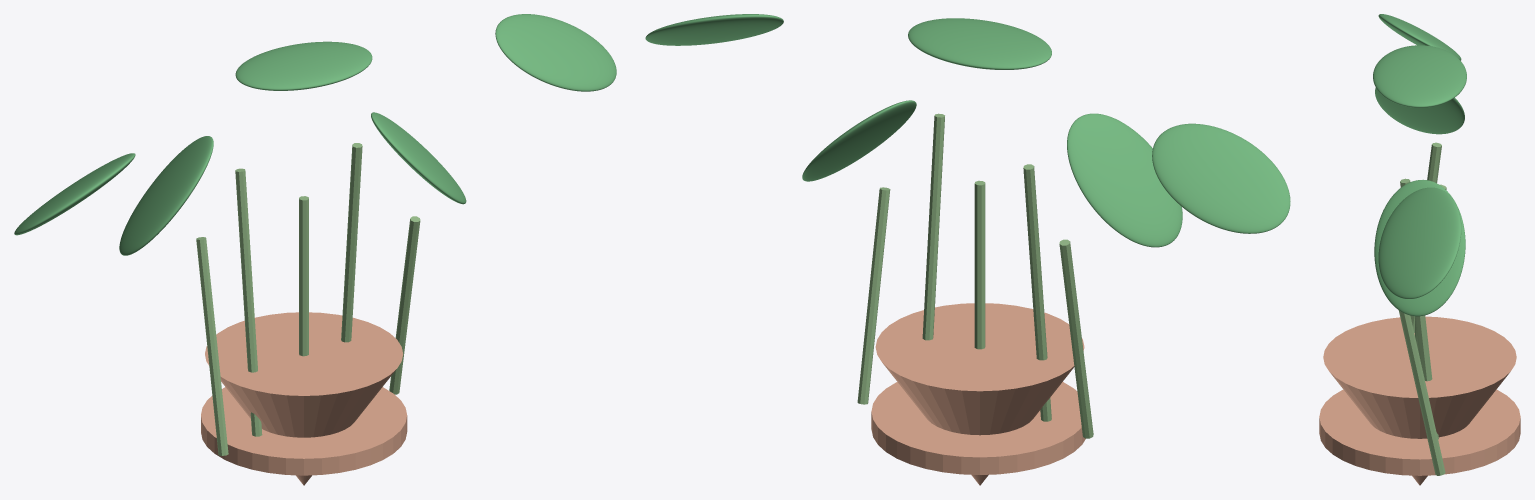
File: potted_monstera.glb
3 renders of one model, left to right at view 1: azimuth 30°, elevation 25°; view 2: azimuth 150°, elevation 25°; view 3: azimuth 270°, elevation 25°, orthographic. The views are drawn at different scales.
Visible parts, largest first — view 1: Pot_Body, Pot_Rim, Monstera_Leaf_1, Monstera_Leaf_0, Monstera_Leaf_4, Monstera_Leaf_3, Monstera_Stem_4, Monstera_Stem_2, Monstera_Leaf_2, Monstera_Stem_3, Monstera_Stem_1, Monstera_Stem_0; view 2: Pot_Body, Monstera_Leaf_2, Pot_Rim, Monstera_Leaf_4, Monstera_Leaf_0, Monstera_Leaf_3, Monstera_Leaf_1, Monstera_Stem_3, Monstera_Stem_4, Monstera_Stem_1, Monstera_Stem_2, Monstera_Stem_0; view 3: Pot_Body, Pot_Rim, Monstera_Leaf_1, Monstera_Leaf_0, Monstera_Leaf_3, Monstera_Leaf_4, Monstera_Stem_1, Monstera_Leaf_2, Monstera_Stem_3, Monstera_Stem_4.
Part boxes in pixels (left/top/right/bottom): Pot_Body: left=205, top=312, right=403, bottom=485; Pot_Rim: left=201, top=387, right=407, bottom=475; Monstera_Leaf_1: left=495, top=14, right=616, bottom=91; Monstera_Leaf_0: left=235, top=41, right=372, bottom=90; Monstera_Leaf_4: left=119, top=136, right=213, bottom=255; Monstera_Leaf_3: left=371, top=112, right=466, bottom=204; Monstera_Stem_4: left=235, top=168, right=262, bottom=436; Monstera_Stem_2: left=196, top=237, right=228, bottom=455; Monstera_Leaf_2: left=14, top=153, right=135, bottom=235; Monstera_Stem_3: left=341, top=143, right=362, bottom=342; Monstera_Stem_1: left=389, top=216, right=420, bottom=394; Monstera_Stem_0: left=299, top=196, right=308, bottom=356; Pot_Body: left=875, top=303, right=1084, bottom=485; Monstera_Leaf_2: left=1152, top=123, right=1290, bottom=233; Pot_Rim: left=871, top=382, right=1085, bottom=474; Monstera_Leaf_4: left=1067, top=113, right=1182, bottom=247; Monstera_Leaf_0: left=908, top=18, right=1051, bottom=69; Monstera_Leaf_3: left=802, top=100, right=916, bottom=181; Monstera_Leaf_1: left=645, top=14, right=783, bottom=45; Monstera_Stem_3: left=922, top=113, right=944, bottom=340; Monstera_Stem_4: left=1023, top=164, right=1051, bottom=421; Monstera_Stem_1: left=857, top=187, right=890, bottom=404; Monstera_Stem_2: left=1059, top=239, right=1093, bottom=438; Monstera_Stem_0: left=974, top=180, right=985, bottom=349; Pot_Body: left=1323, top=316, right=1516, bottom=485; Pot_Rim: left=1319, top=389, right=1520, bottom=475; Monstera_Leaf_1: left=1378, top=187, right=1461, bottom=298; Monstera_Leaf_0: left=1373, top=45, right=1466, bottom=107; Monstera_Leaf_3: left=1374, top=179, right=1465, bottom=316; Monstera_Leaf_4: left=1375, top=87, right=1464, bottom=134; Monstera_Stem_1: left=1398, top=310, right=1445, bottom=475; Monstera_Leaf_2: left=1378, top=14, right=1461, bottom=60; Monstera_Stem_3: left=1400, top=178, right=1438, bottom=439; Monstera_Stem_4: left=1410, top=142, right=1441, bottom=332.
Size of the model in its own units: 0.5239 by 0.356 by 0.156.
